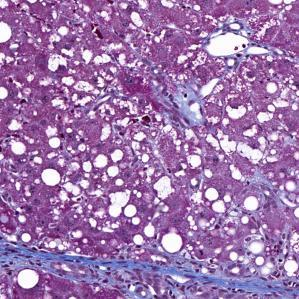fibrosis: (41, 250, 186, 294), (207, 275, 299, 299)
